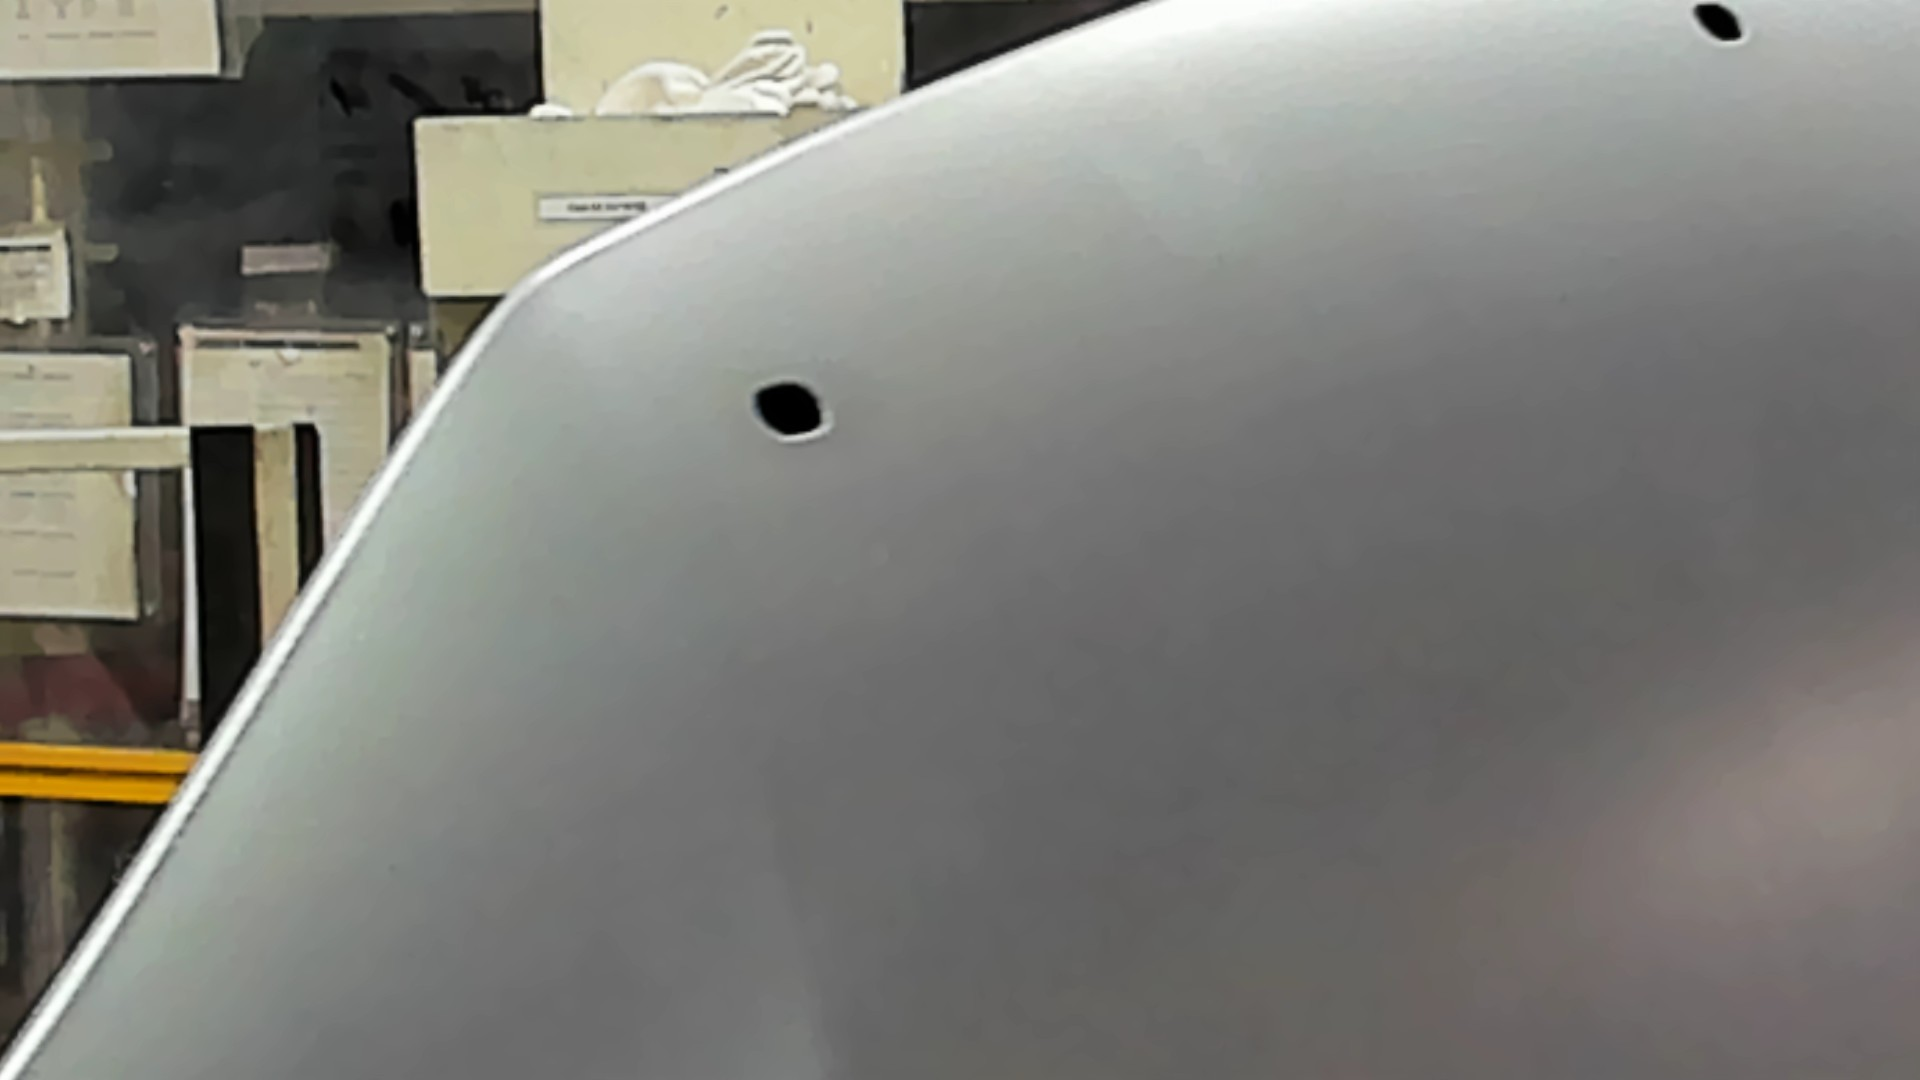amorfo: (742, 373, 843, 447), (1684, 1, 1760, 55)
capo: (955, 111, 1920, 1080)
